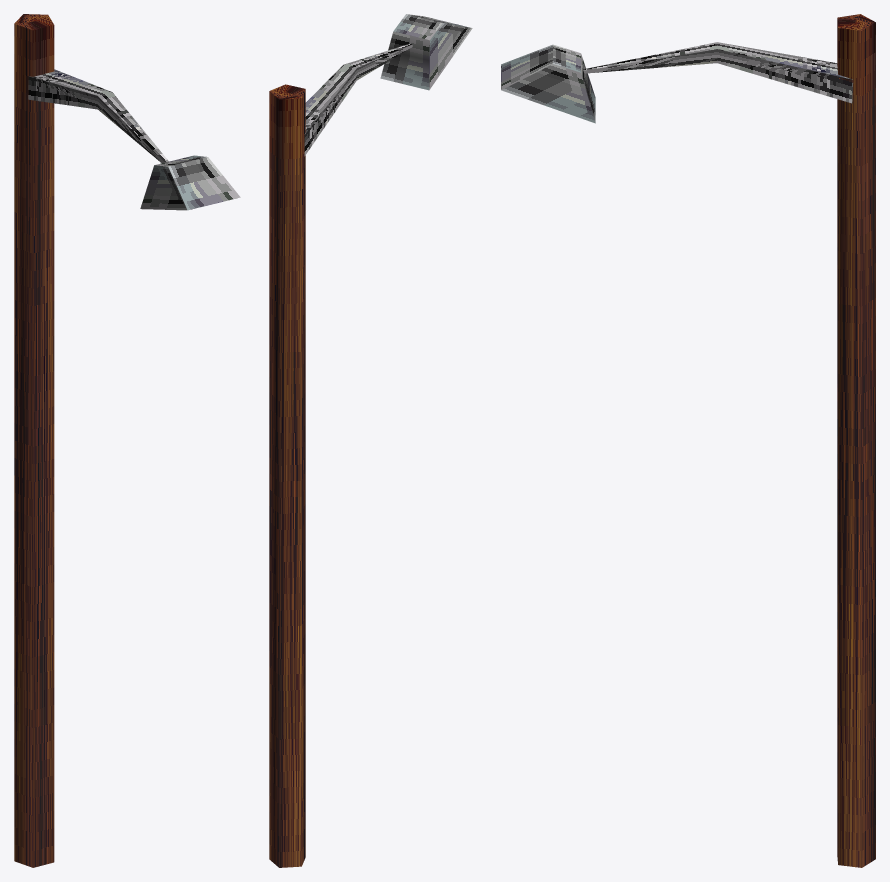
Rendered from USA - Vegetation - Asian Street Light - PAStrtLamp.glb.
3 renders of one model, left to right at view 1: azimuth 30°, elevation 25°; view 2: azimuth 150°, elevation 25°; view 3: azimuth 270°, elevation 25°, orthographic. The views are drawn at different scales.
Visible parts, largest first — view 1: PASTRTLAMP; view 2: PASTRTLAMP; view 3: PASTRTLAMP.
Part boxes in pixels (left/top/right/bottom): PASTRTLAMP: left=14, top=14, right=240, bottom=867; PASTRTLAMP: left=269, top=14, right=472, bottom=867; PASTRTLAMP: left=501, top=14, right=875, bottom=867.
Bounding box in the file's own units: 2.58 × 38.82 × 15.75.
Materials: 1 (1 with a texture image).
